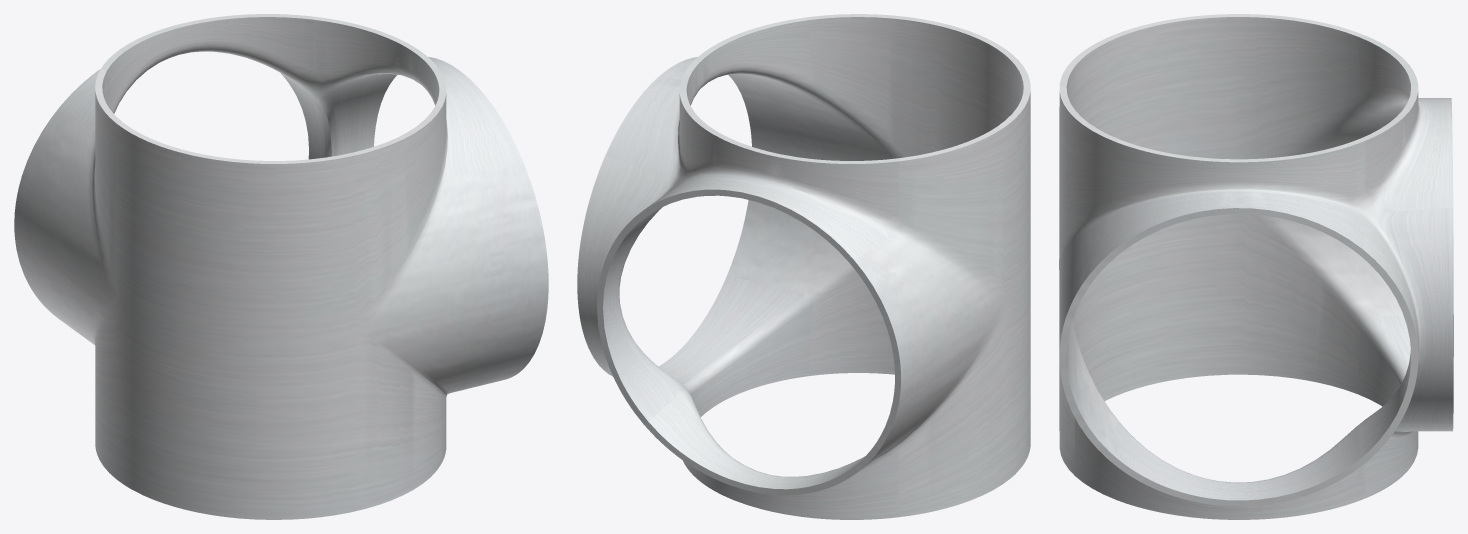
Rendered from 4TConnector.glb.
3 views of the same model, side by side, from view 1: azimuth 30°, elevation 25°; view 2: azimuth 150°, elevation 25°; view 3: azimuth 270°, elevation 25° (orthographic).
Visible parts, largest first — view 1: 4TConnector; view 2: 4TConnector; view 3: 4TConnector.
Boxes of the visible parts, left/top/right/bottom form: 4TConnector: left=14, top=14, right=548, bottom=519; 4TConnector: left=577, top=14, right=1030, bottom=519; 4TConnector: left=1059, top=14, right=1453, bottom=519.
Size of the model in its own units: 1.9 by 1.9 by 1.9.
1 material, 1 textured.
